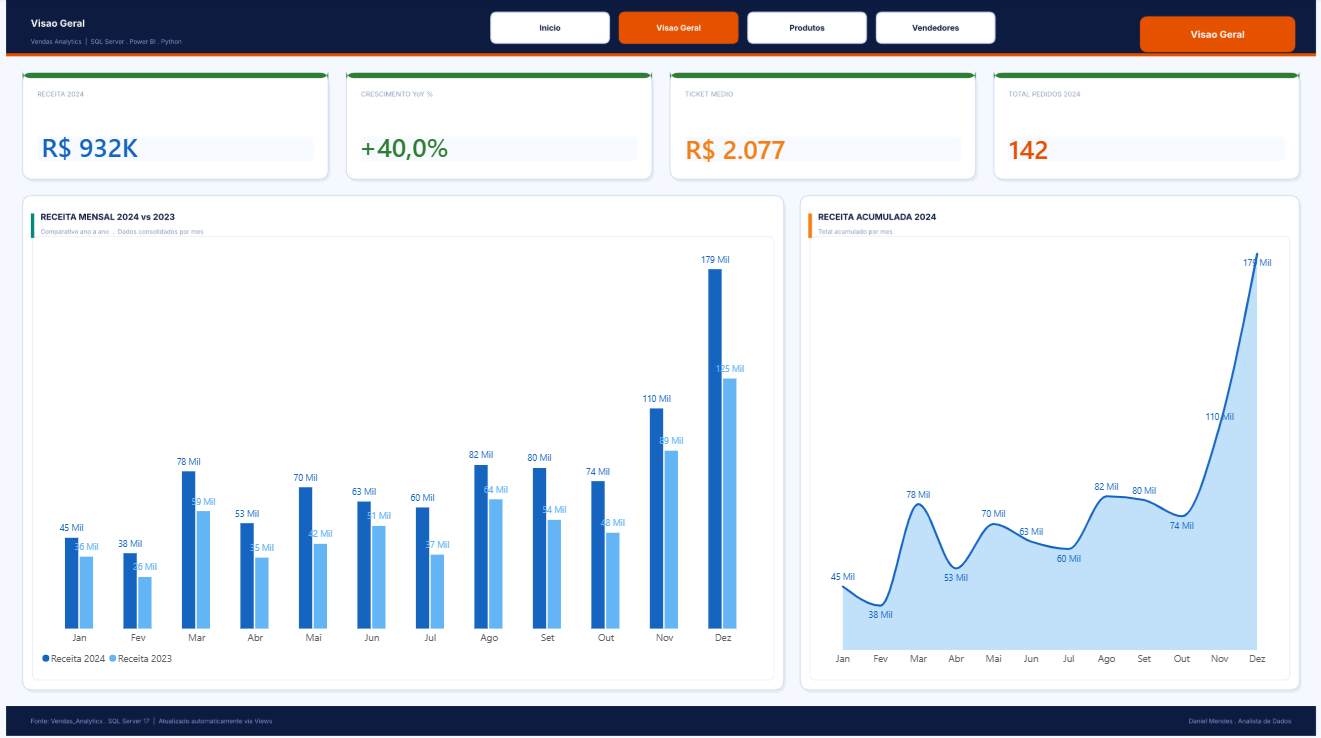

This screenshot's page, from the dashboard's own definition file:
{"tool":"powerbi","page":{"name":"Visão Geral","canvas":[1920,1080],"ordinal":1},"visuals":[{"type":"cardVisual","fields":{"Data":["_Medidas.Receita 2024 Fmt"]},"box":[47.1,175.6,413.2,83.5],"z":0},{"type":"cardVisual","fields":{"Data":["_Medidas.Crescimento YoY Fmt"]},"box":[507.4,175.6,413.2,83.5],"z":1000},{"type":"cardVisual","fields":{"Data":["_Medidas.Ticket Médio Fmt"]},"box":[978.4,177.7,413.2,83.5],"z":2000},{"type":"cardVisual","fields":{"Data":["_Medidas.Total Pedidos 2024"]},"box":[1447.3,177.7,413.2,83.5],"z":3000},{"type":"clusteredColumnChart","fields":{"Category":["vw_vendas_mensal_yoy.mes_nome"],"Y":["_Medidas.Receita 2024","_Medidas.Receita 2023"]},"box":[46.2,345.4,1073.5,642.3],"z":4000},{"type":"areaChart","fields":{"Category":["vw_vendas_mensal_yoy.mes_nome"],"Y":["_Medidas.Receita Acumulada 2024"]},"box":[1185.7,345.4,675.3,642.3],"z":5000},{"type":"actionButton","box":[714.9,22,169.4,41.8],"z":6000},{"type":"actionButton","box":[1084.5,22,169.4,41.8],"z":7000},{"type":"actionButton","box":[1273.7,22,173.8,41.8],"z":8000}]}

Visuals, with their boxes in screenshot pixels (x1, y1, x2, y2), scaled from the page's 1920x1080 canvas onto the 1321x738 screenshot:
cardVisual - _Medidas.Receita 2024 Fmt: box=[32, 120, 317, 177]
cardVisual - _Medidas.Crescimento YoY Fmt: box=[349, 120, 633, 177]
cardVisual - _Medidas.Ticket Médio Fmt: box=[673, 121, 957, 178]
cardVisual - _Medidas.Total Pedidos 2024: box=[996, 121, 1280, 178]
clusteredColumnChart - vw_vendas_mensal_yoy.mes_nome x _Medidas.Receita 2024: box=[32, 236, 770, 675]
areaChart - vw_vendas_mensal_yoy.mes_nome x _Medidas.Receita Acumulada 2024: box=[816, 236, 1280, 675]
actionButton: box=[492, 15, 608, 44]
actionButton: box=[746, 15, 863, 44]
actionButton: box=[876, 15, 996, 44]
